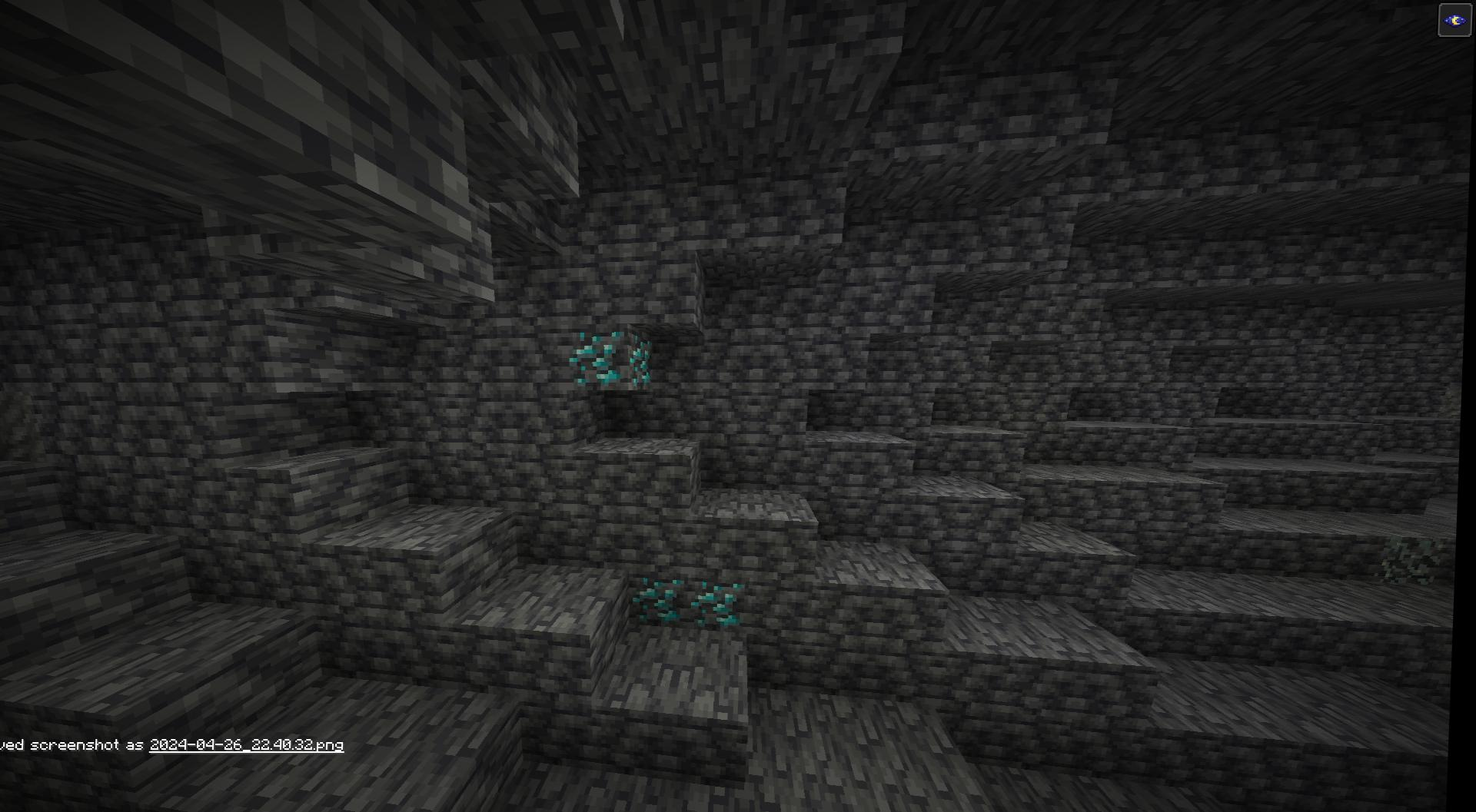diamond ore: (568, 327, 630, 389), (631, 575, 696, 627), (693, 576, 751, 632), (628, 331, 658, 390)
